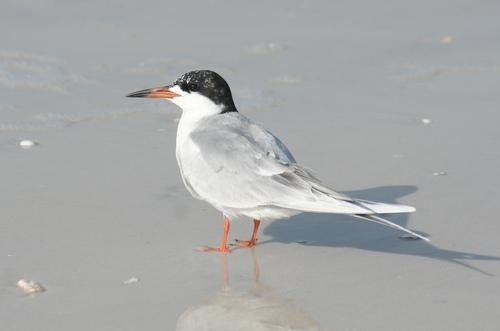bird: (119, 68, 436, 256)
